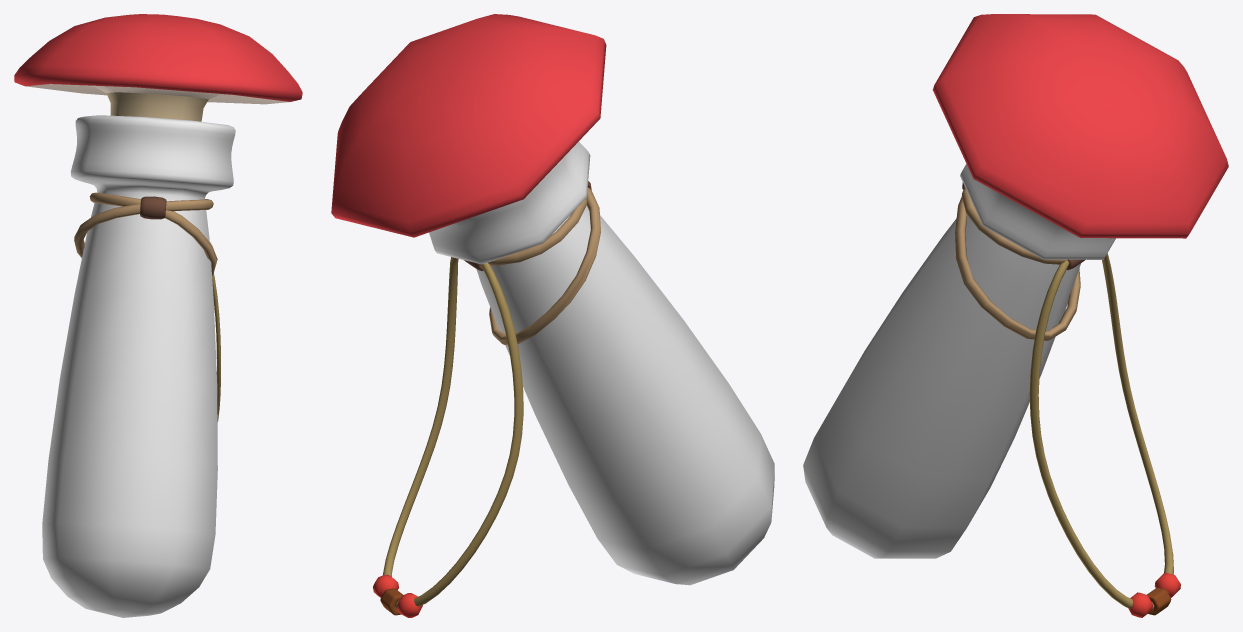
The model's file is mushroom_potion_smooth.fbx.
3 views of the same model, side by side, from view 1: azimuth 30°, elevation 25°; view 2: azimuth 150°, elevation 25°; view 3: azimuth 270°, elevation 25° (orthographic). The views are drawn at different scales.
Visible parts, largest first — view 1: Cube, Cube.007, Cube.002, Cube.001, Cube.008, BezierCircle, Cube.004; view 2: Cube, Cube.007, BezierCircle, Cube.002; view 3: Cube, Cube.007, BezierCircle, Cube.002.
Boxes of the visible parts, <box> form: Cube: <box>42,115,235,617</box>; Cube.007: <box>14,14,302,101</box>; Cube.002: <box>74,192,217,275</box>; Cube.001: <box>106,92,208,121</box>; Cube.008: <box>26,84,288,104</box>; BezierCircle: <box>212,273,220,421</box>; Cube.004: <box>140,196,166,219</box>; Cube: <box>429,141,774,585</box>; Cube.007: <box>331,14,606,237</box>; BezierCircle: <box>383,257,523,609</box>; Cube.002: <box>488,187,600,345</box>; Cube: <box>803,164,1115,558</box>; Cube.007: <box>932,14,1228,238</box>; BezierCircle: <box>1029,253,1173,610</box>; Cube.002: <box>955,187,1080,340</box>.
Size of the model in its own units: 231 by 377 by 253.
